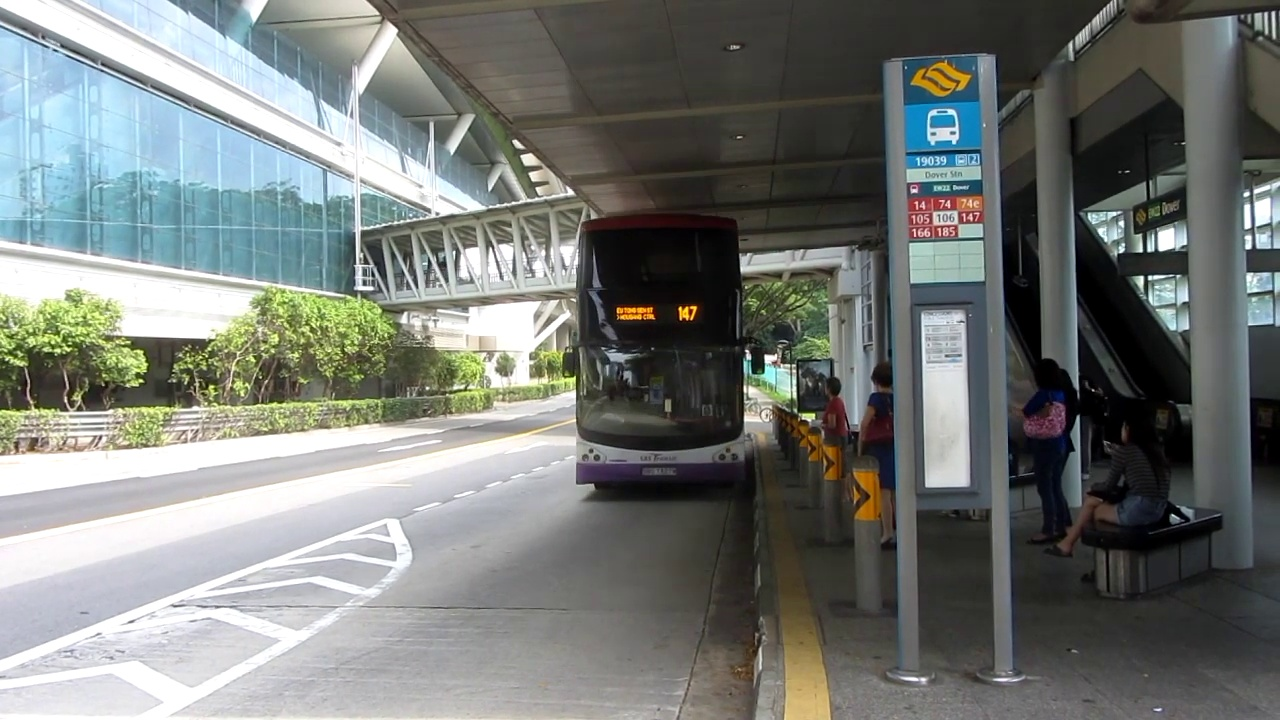bus panel: (612, 303, 701, 325)
